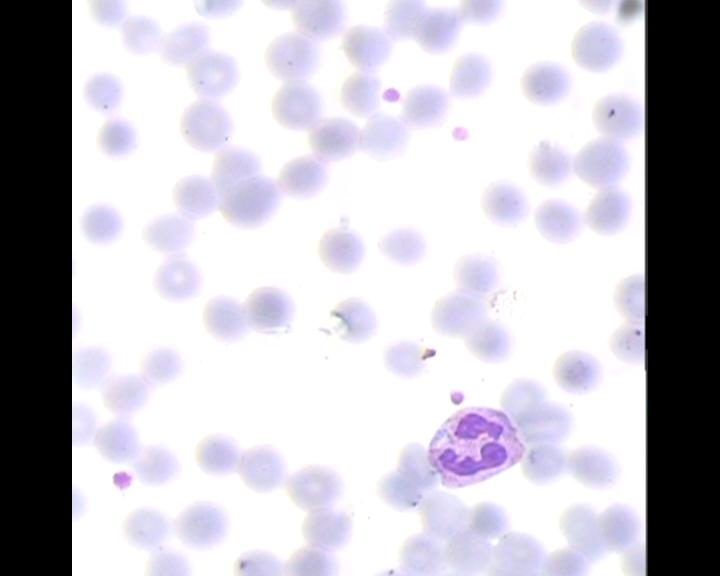neut: (423, 402, 523, 491)
